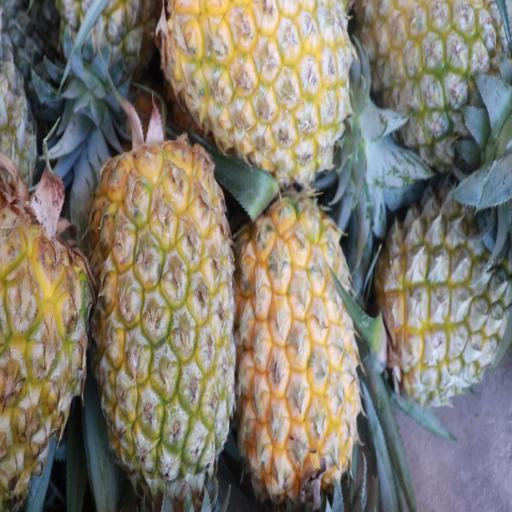Pineapple - v8 v1: (98, 154, 235, 500), (238, 205, 357, 499), (166, 0, 346, 176), (0, 192, 90, 511), (381, 183, 511, 396), (356, 0, 507, 163)
